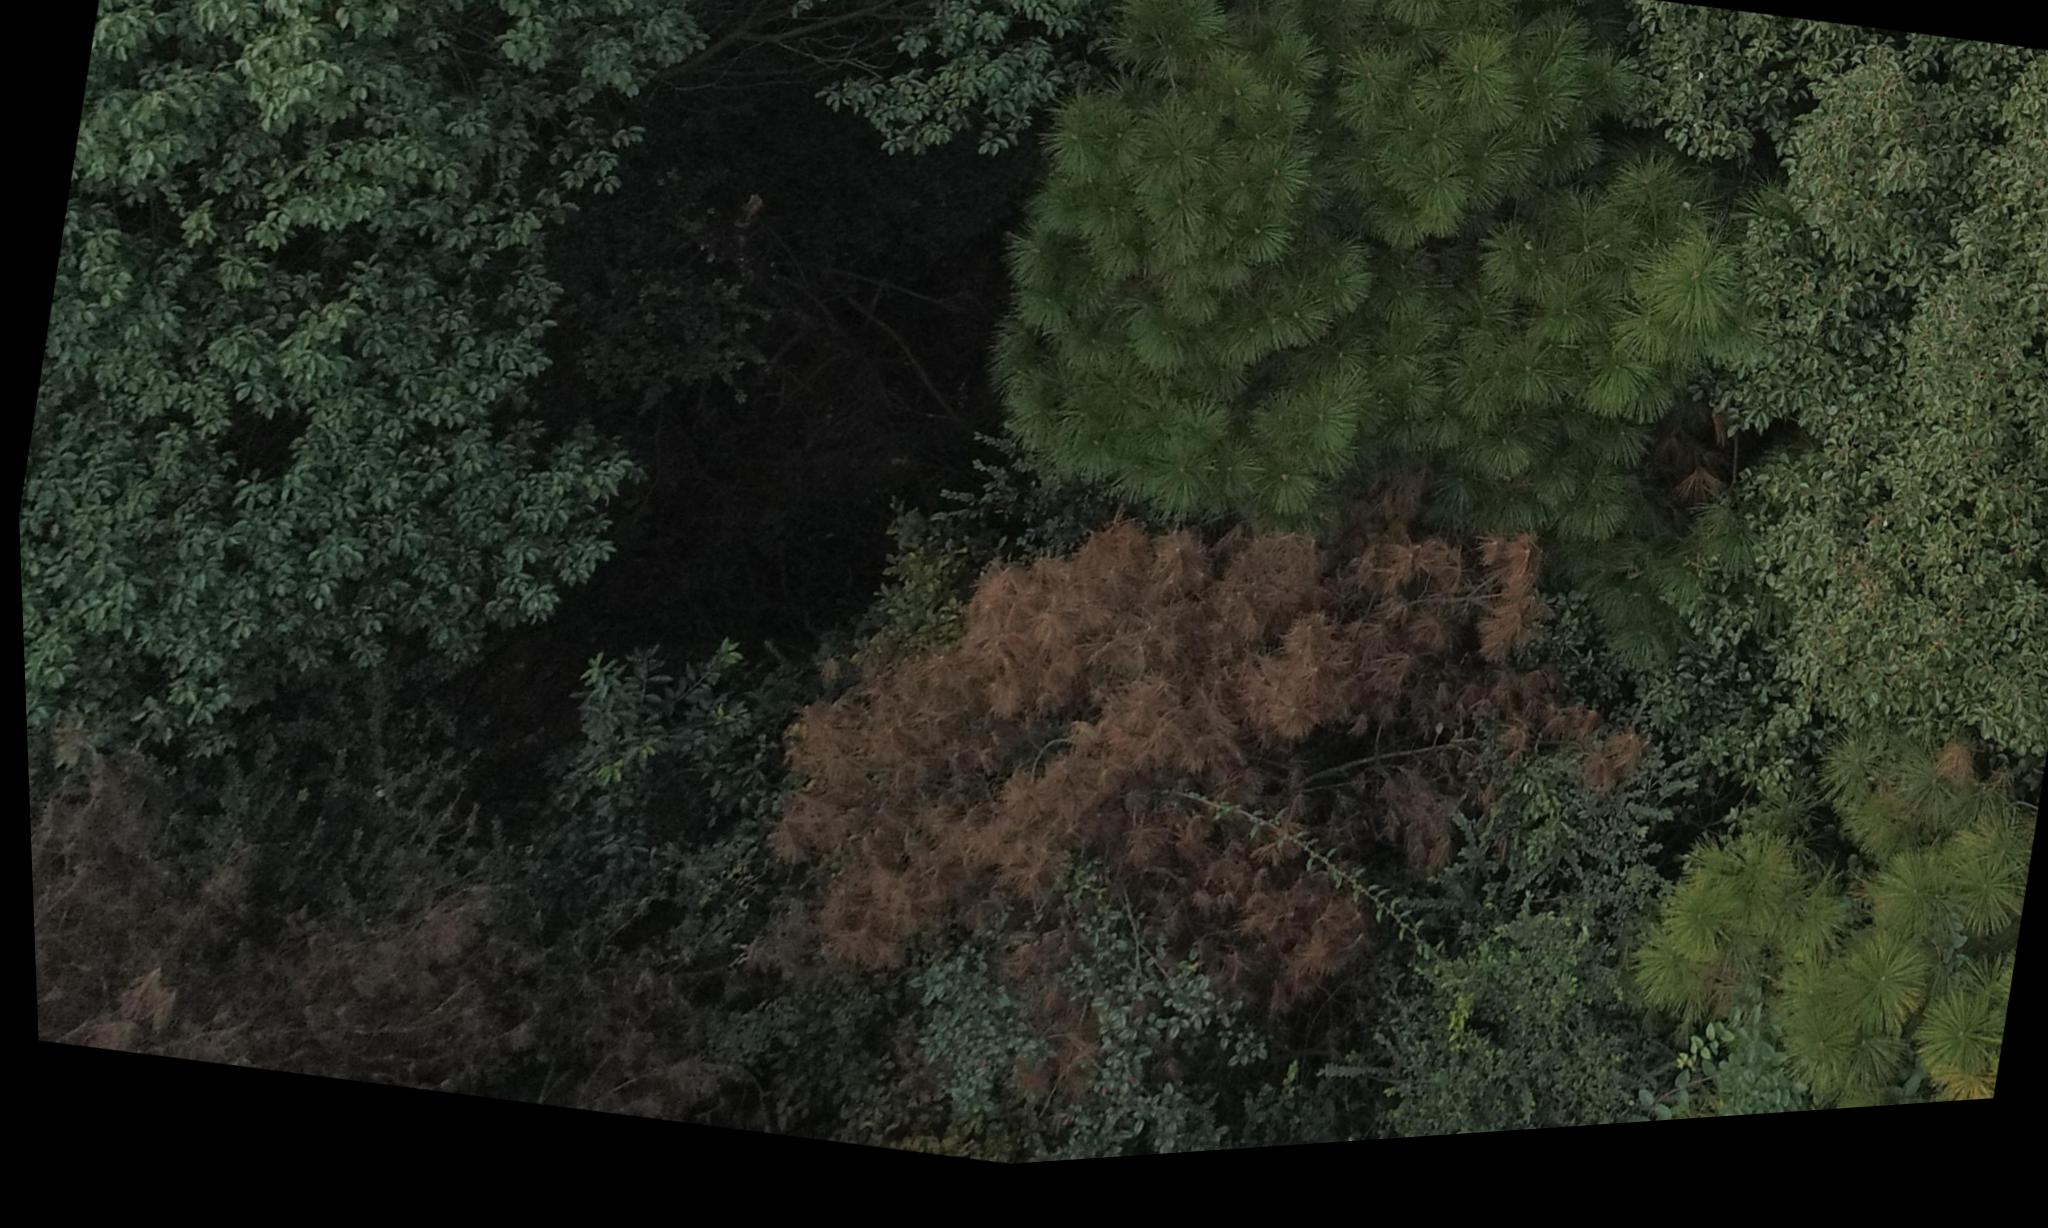heavy: (731, 409, 1631, 1155), (20, 696, 627, 1126)
light: (1637, 715, 2033, 1143)
